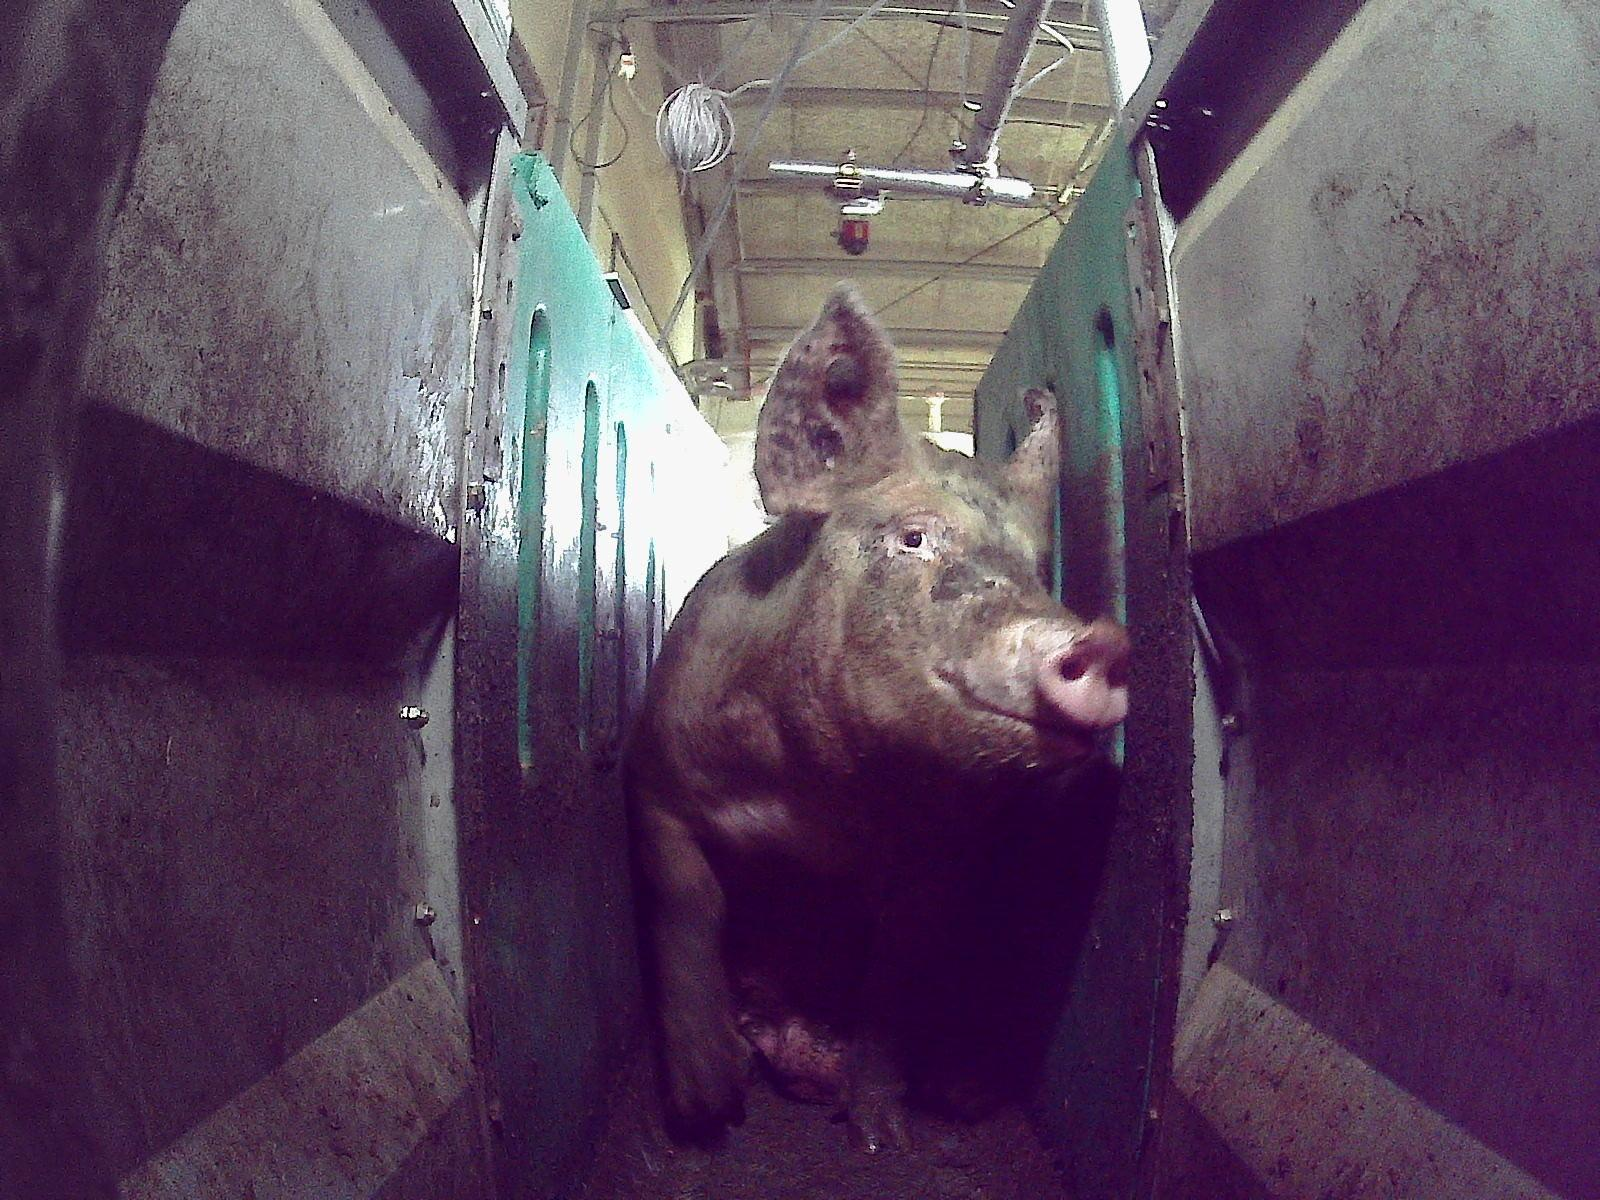Face: (749, 439, 1129, 812)
